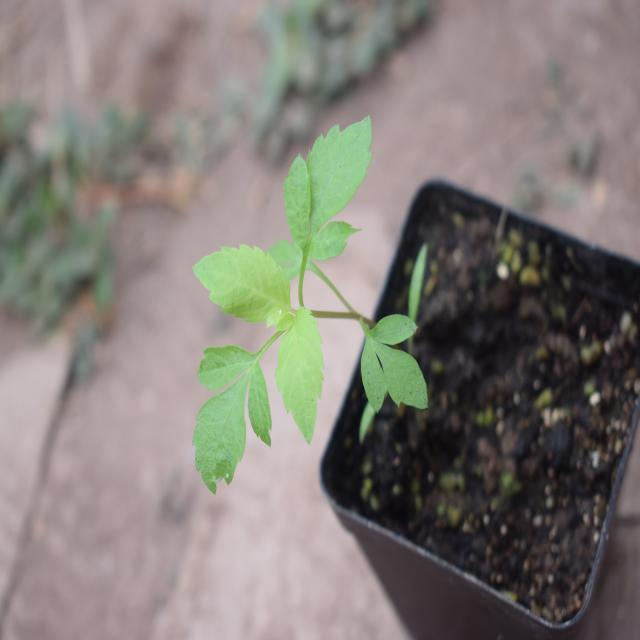Bidens pilosa: (157, 117, 450, 504)
